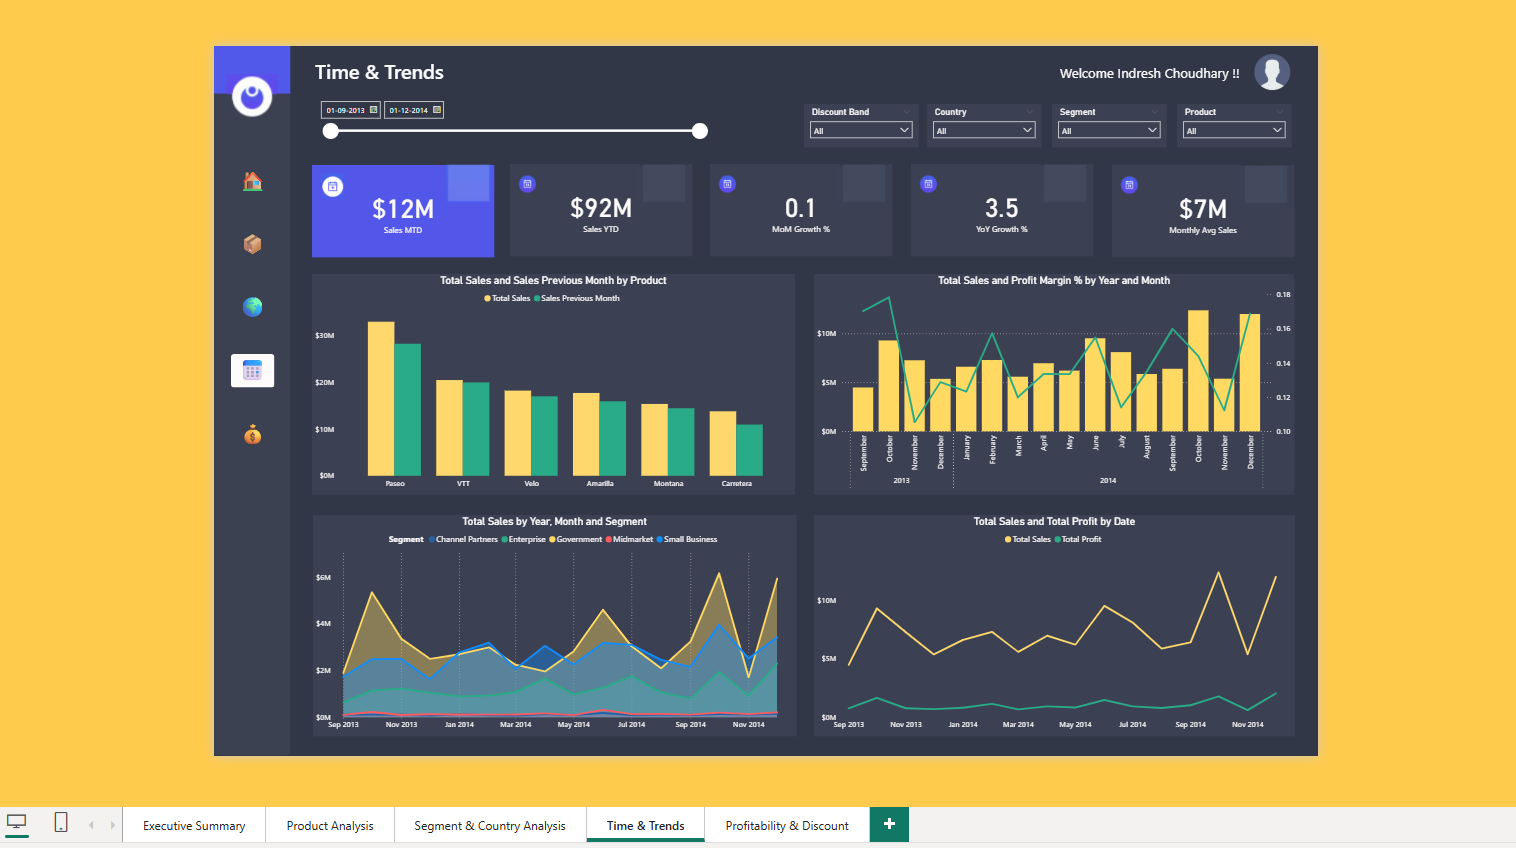

This screenshot's page, from the dashboard's own definition file:
{"tool":"powerbi","page":{"name":"Time & Trends","canvas":[1780,1145],"ordinal":3},"visuals":[{"type":"shape","box":[0,51.7,123.3,1093.3],"z":0},{"type":"slicer","fields":{"Values":["Product.Product"]},"box":[1553.4,93.9,185,70],"z":0,"group":"g7"},{"type":"card","fields":{"Values":["All Measures.MoM Growth %"]},"box":[800.4,190.8,293.9,149.1],"z":0,"group":"g3"},{"type":"card","fields":{"Values":["All Measures.YoY Growth %"]},"box":[1124.8,190.9,293.9,149.1],"z":0,"group":"g4"},{"type":"card","fields":{"Values":["All Measures.Sales MTD"]},"box":[158.1,191.4,293.9,149.1],"z":0,"group":"g1"},{"type":"card","fields":{"Values":["All Measures.Sales YTD"]},"box":[477,191.4,293.9,149.1],"z":0,"group":"g2"},{"type":"card","fields":{"Values":["All Measures.Monthly Avg Sales"]},"box":[1448.3,192.3,293.9,149.1],"z":0,"group":"g5"},{"type":"shape","box":[0,0,123.3,76.7],"z":1000},{"type":"slicer","fields":{"Values":["Segment.Segment"]},"box":[1351.7,93.9,185,70],"z":1000,"group":"g7"},{"type":"image","box":[368.7,159.1,83.4,118.8],"z":1000,"group":"g1"},{"type":"image","box":[1002.6,174.1,91.7,86.5],"z":1000,"group":"g3"},{"type":"image","box":[1327,174.2,91.7,86.5],"z":1000,"group":"g4"},{"type":"image","box":[679.2,174.7,91.7,86.5],"z":1000,"group":"g2"},{"type":"image","box":[1650.5,175.6,91.7,86.5],"z":1000,"group":"g5"},{"type":"textbox","box":[158.3,13.3,370,68.3],"z":2000},{"type":"slicer","fields":{"Values":["Country.Country"]},"box":[1150,93.9,185,70],"z":2000,"group":"g7"},{"type":"image","box":[800.4,198.1,57.3,47.9],"z":2000,"group":"g3"},{"type":"image","box":[1124.8,198.2,57.3,47.9],"z":2000,"group":"g4"},{"type":"image","box":[167.5,198.7,45.9,52.1],"z":2000,"group":"g1"},{"type":"image","box":[477,198.7,57.3,47.9],"z":2000,"group":"g2"},{"type":"image","box":[1448.3,199.6,57.3,47.9],"z":2000,"group":"g5"},{"type":"image","box":[1671.3,8.8,71.7,68.3],"z":3000,"group":"g6"},{"type":"image","box":[13.3,40,96.7,81.7],"z":3000},{"type":"slicer","fields":{"Values":["Discount Band.Discount Band"]},"box":[951.7,93.9,185,70],"z":3000,"group":"g7"},{"type":"shape","box":[1345.2,20.9,328.3,46.7],"z":4000,"group":"g6"},{"type":"group","id":"g1","title":"Group 1","box":[158.1,159.1,293.9,181.4],"z":4000},{"type":"shape","box":[26.7,190,70,54],"z":5000},{"type":"group","id":"g2","title":"Group 2","box":[477,174.7,293.9,165.7],"z":6000},{"type":"group","id":"g3","title":"Group 2","box":[800.4,174.1,293.9,165.7],"z":7000},{"type":"shape","box":[26.7,292.8,70,54],"z":8000},{"type":"group","id":"g4","title":"Group 2","box":[1124.8,174.2,294.4,166.1],"z":9000},{"type":"shape","box":[26.7,395,70,54],"z":10000},{"type":"group","id":"g5","title":"Group 2","box":[1448.3,175.6,294.6,165.6],"z":11000},{"type":"group","id":"g6","title":"Group 3","box":[1345.2,8.8,397.8,68.3],"z":12000},{"type":"shape","box":[26.7,497.2,70,54],"z":13000},{"type":"shape","box":[26.7,599.4,70,54],"z":14000},{"type":"clusteredColumnChart","fields":{"Category":["Product.Product"],"Y":["All Measures.Total Sales","All Measures.Sales Previous Month"]},"box":[158.6,368.5,778.8,355.8],"z":15000},{"type":"lineStackedColumnComboChart","fields":{"Y":["All Measures.Total Sales"],"Category":["Calendar.Date.Variation.Date Hierarchy.Year","Calendar.Date.Variation.Date Hierarchy.Month"],"Y2":["All Measures.Profit Margin %"]},"box":[968.2,368.5,774.6,355.8],"z":16000},{"type":"lineChart","fields":{"Y":["All Measures.Total Sales","All Measures.Total Profit"],"Category":["Calendar.Date"]},"box":[968.3,756.9,775.9,356.5],"z":17000},{"type":"areaChart","fields":{"Category":["Calendar.Date.Variation.Date Hierarchy.Year","Calendar.Date.Variation.Date Hierarchy.Month"],"Series":["Segment.Segment"],"Y":["All Measures.Total Sales"]},"box":[159.2,756.9,779.6,356.5],"z":18000},{"type":"group","id":"g7","title":"Group 5","box":[951.7,93.9,786.7,70],"z":19000},{"type":"slicer","fields":{"Values":["Calendar.Date"]},"box":[160,78.3,645,96.7],"z":20000}]}

Visuals, with their boxes on the page's 1780x1145 design canvas (x1, y1, x2, y2). These are canvas units, not pixel positions in the 1516x848 screenshot, which may show the page scaled, cropped or inside an application window:
shape: 0:52:123:1145
slicer - Product.Product: 1553:94:1738:164
card - All Measures.MoM Growth %: 800:191:1094:340
card - All Measures.YoY Growth %: 1125:191:1419:340
card - All Measures.Sales MTD: 158:191:452:340
card - All Measures.Sales YTD: 477:191:771:340
card - All Measures.Monthly Avg Sales: 1448:192:1742:341
shape: 0:0:123:77
slicer - Segment.Segment: 1352:94:1537:164
image: 369:159:452:278
image: 1003:174:1094:261
image: 1327:174:1419:261
image: 679:175:771:261
image: 1650:176:1742:262
textbox: 158:13:528:82
slicer - Country.Country: 1150:94:1335:164
image: 800:198:858:246
image: 1125:198:1182:246
image: 168:199:213:251
image: 477:199:534:247
image: 1448:200:1506:248
image: 1671:9:1743:77
image: 13:40:110:122
slicer - Discount Band.Discount Band: 952:94:1137:164
shape: 1345:21:1674:68
"Group 1" group: 158:159:452:340
shape: 27:190:97:244
"Group 2" group: 477:175:771:340
"Group 2" group: 800:174:1094:340
shape: 27:293:97:347
"Group 2" group: 1125:174:1419:340
shape: 27:395:97:449
"Group 2" group: 1448:176:1743:341
"Group 3" group: 1345:9:1743:77
shape: 27:497:97:551
shape: 27:599:97:653
clusteredColumnChart - Product.Product x All Measures.Total Sales: 159:368:937:724
lineStackedColumnComboChart - All Measures.Total Sales x Calendar.Date.Variation.Date Hierarchy.Year: 968:368:1743:724
lineChart - All Measures.Total Sales x All Measures.Total Profit: 968:757:1744:1113
areaChart - Calendar.Date.Variation.Date Hierarchy.Year x Calendar.Date.Variation.Date Hierarchy.Month: 159:757:939:1113
"Group 5" group: 952:94:1738:164
slicer - Calendar.Date: 160:78:805:175
